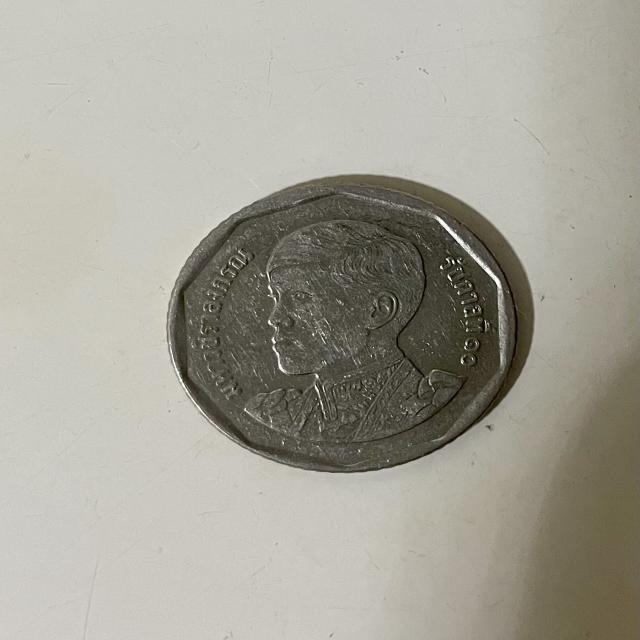5 Bath: (157, 174, 529, 478)
